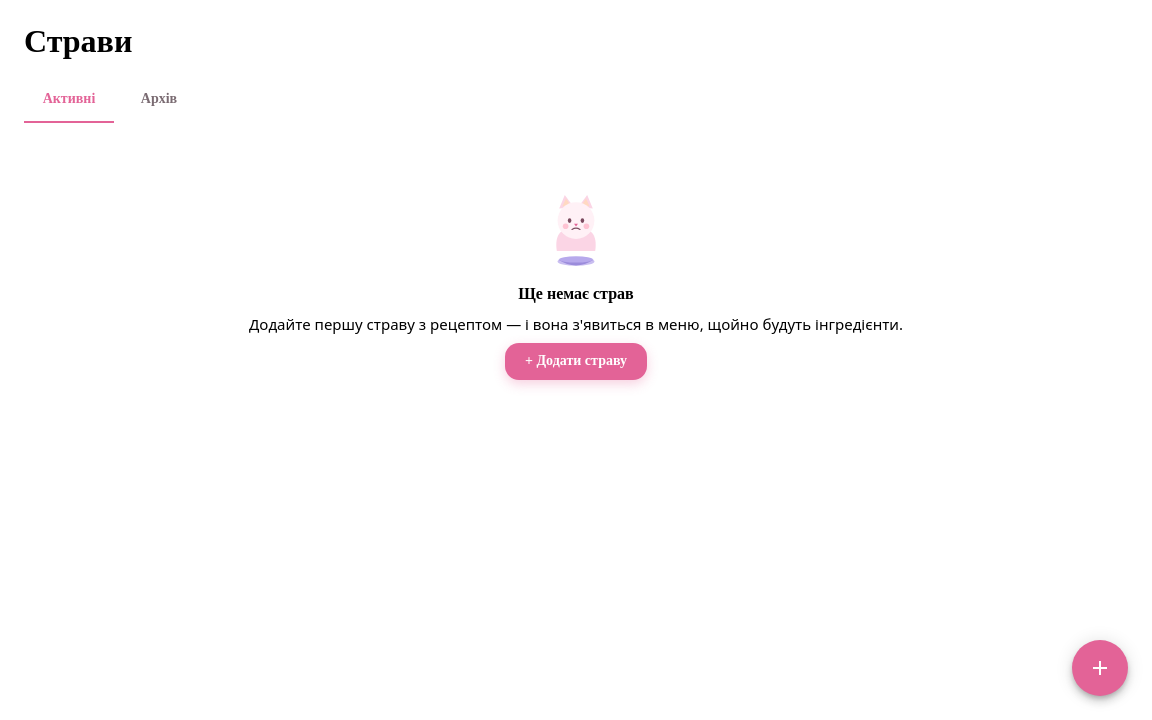
Test case: DishesPage create dialog › keeps the submit button disabled while an added recipe row has no quantity
Click the button "+ Додати страву" at coordinates (576, 361), box [505,343,647,380]
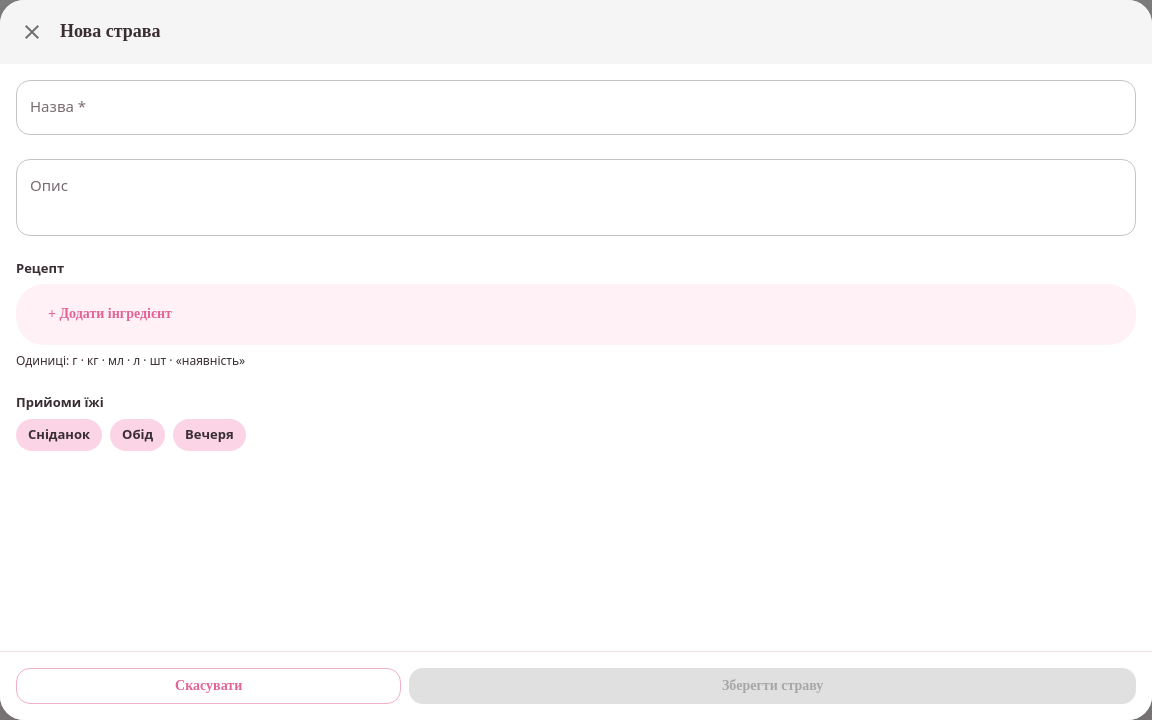
Type "Млинці" into the field labelled "Назва *" at coordinates (576, 107), box [16,80,1136,135]
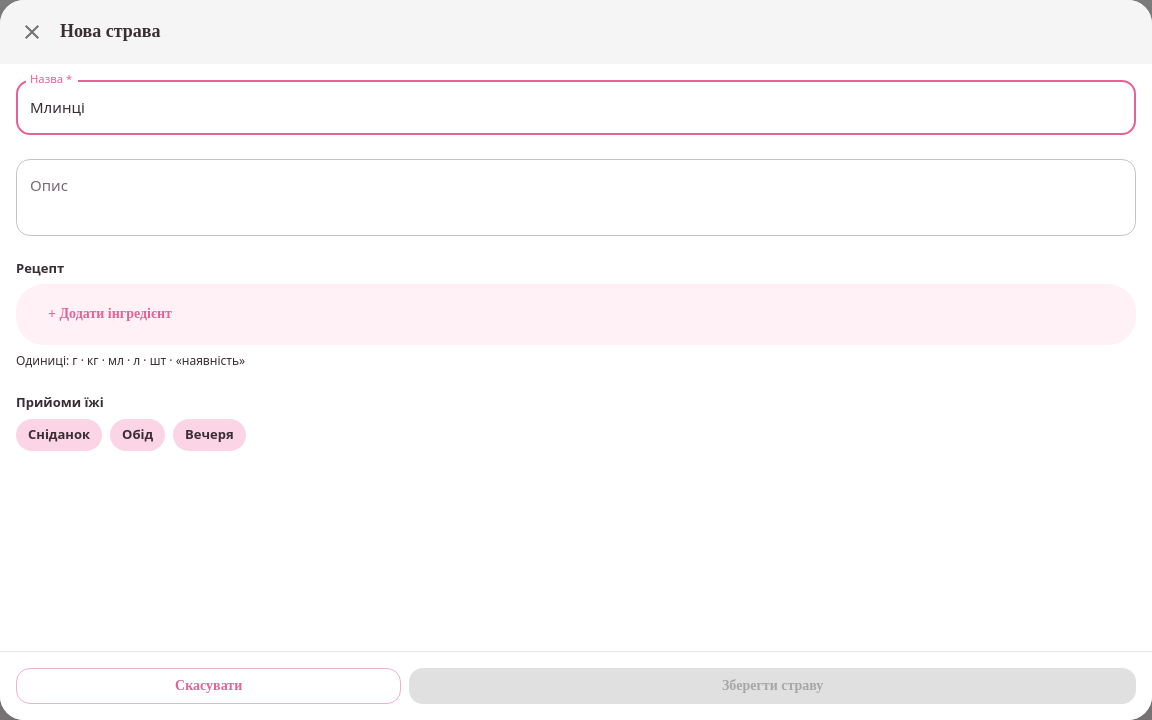
Click the button "Сніданок" at coordinates (59, 435), box [16,419,102,451]
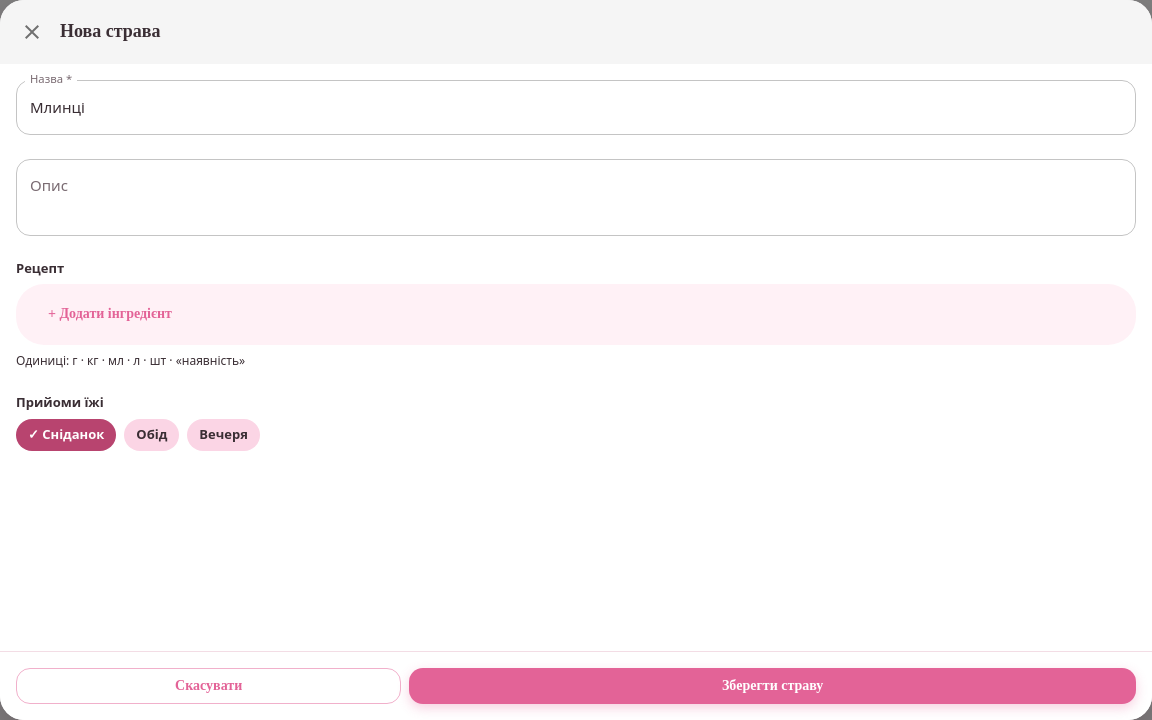
Click the button "+ Додати інгредієнт" at coordinates (110, 315), box [28,296,192,333]
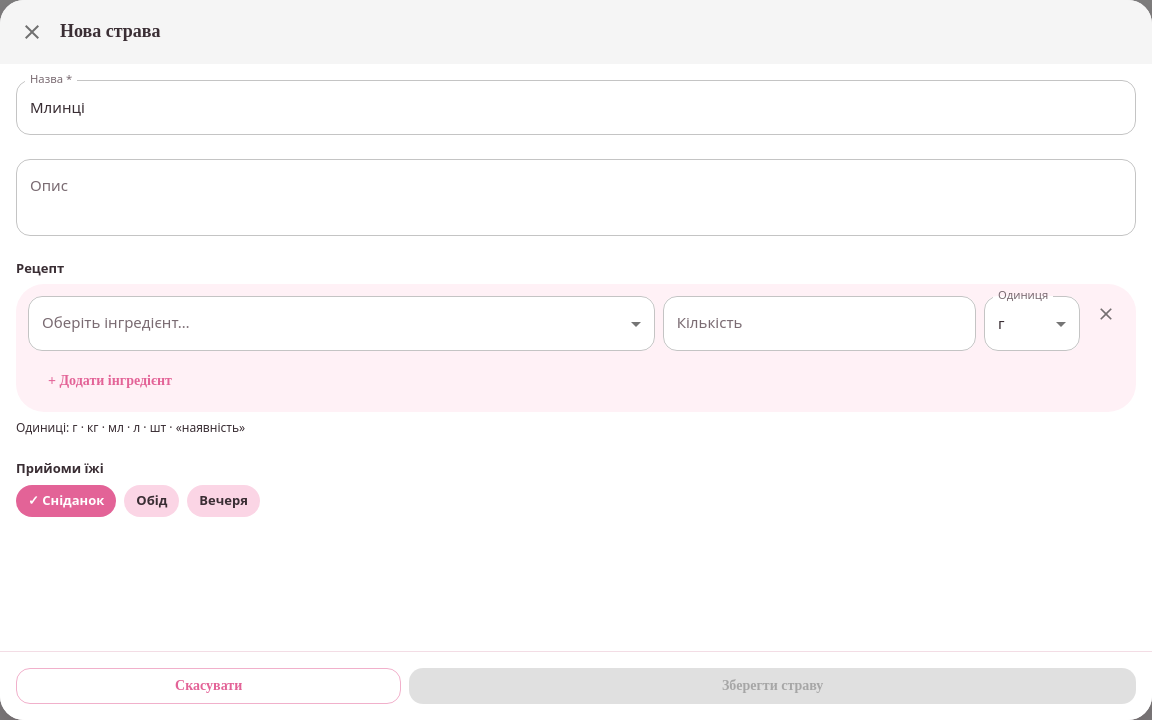
Expected: the button "Зберегти страву" is disabled, [409,668,1136,704]
